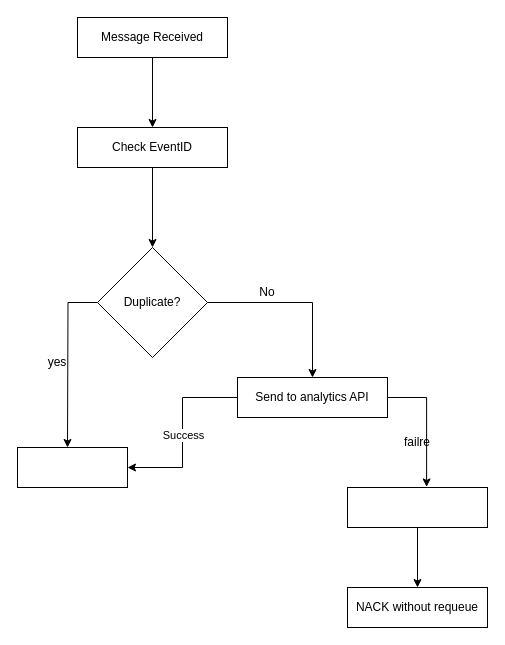
Some shapes in this 505 by 645 pixel diagram are drawn without their labels. The shapes that lost their labels are listed below. From the top down, each one's centre as x and y in pixels, then its label:
(x=72, y=467): ACK Message
(x=417, y=507): Processing Error
